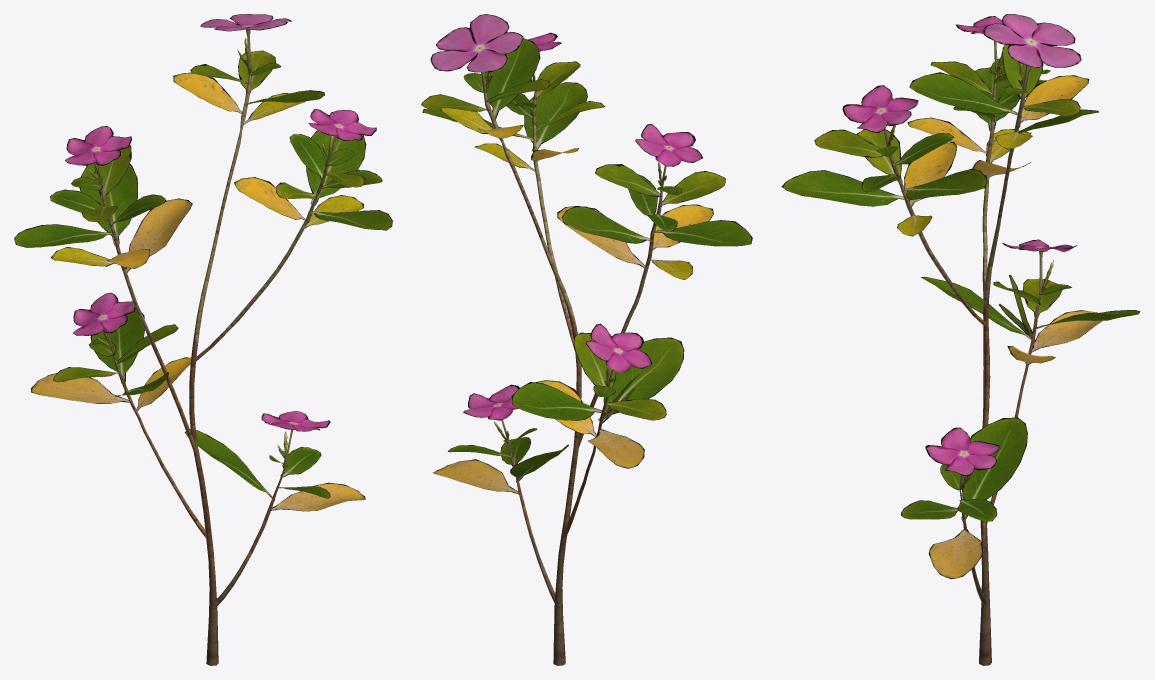
Rendered from groundcover_02.glb.
The picture shows the model from 3 angles, left to right: view 1: azimuth 30°, elevation 25°; view 2: azimuth 150°, elevation 25°; view 3: azimuth 270°, elevation 25°; orthographic projection. The views are drawn at different scales.
Visible parts, largest first — view 1: groundcover_02; view 2: groundcover_02; view 3: groundcover_02.
Boxes of the visible parts, box(x1,y1,x2,y2) form: groundcover_02: box(14, 14, 392, 665); groundcover_02: box(421, 14, 752, 665); groundcover_02: box(781, 14, 1140, 665).
Bounding box in the file's own units: 0.1675 × 0.3002 × 0.1466.
Materials: 1 (1 with a texture image).
